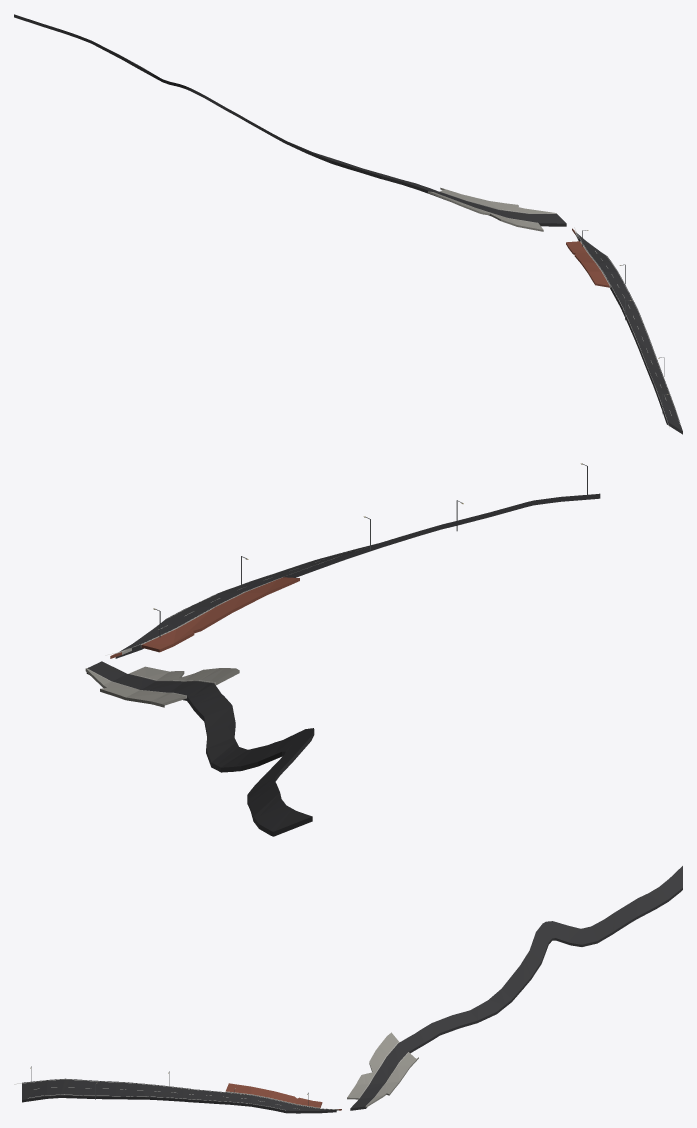
The picture shows the model from 3 angles, top to bottom: view 1: azimuth 30°, elevation 25°; view 2: azimuth 150°, elevation 25°; view 3: azimuth 270°, elevation 25°; orthographic projection. The views are drawn at different scales.
Size of the model in its own units: 139 by 67.98 by 295.
